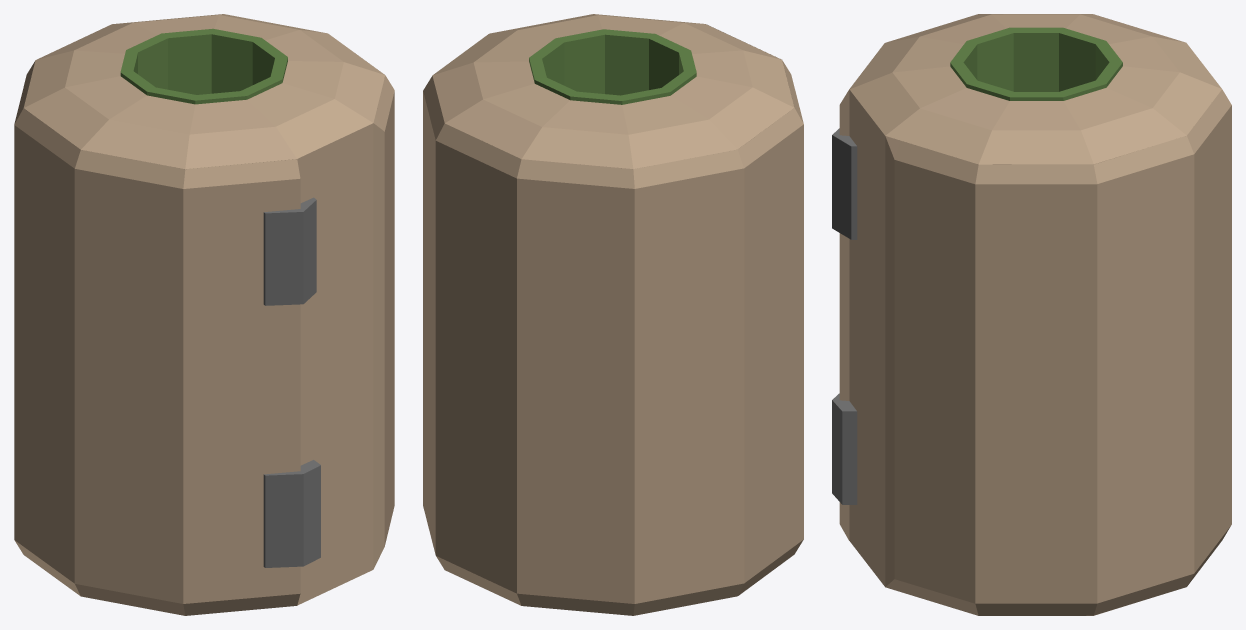
The model's file is Bandage.fbx.
3 renders of one model, left to right at view 1: azimuth 30°, elevation 25°; view 2: azimuth 150°, elevation 25°; view 3: azimuth 270°, elevation 25°, orthographic.
Visible parts, largest first — view 1: Bandage; view 2: Bandage; view 3: Bandage.
Part boxes in pixels (<box>): Bandage: <box>14,14,394,615</box>; Bandage: <box>423,14,803,615</box>; Bandage: <box>832,14,1231,615</box>.
Bounding box in the file's own units: 202 × 300 × 215.
1 material, 1 textured.
